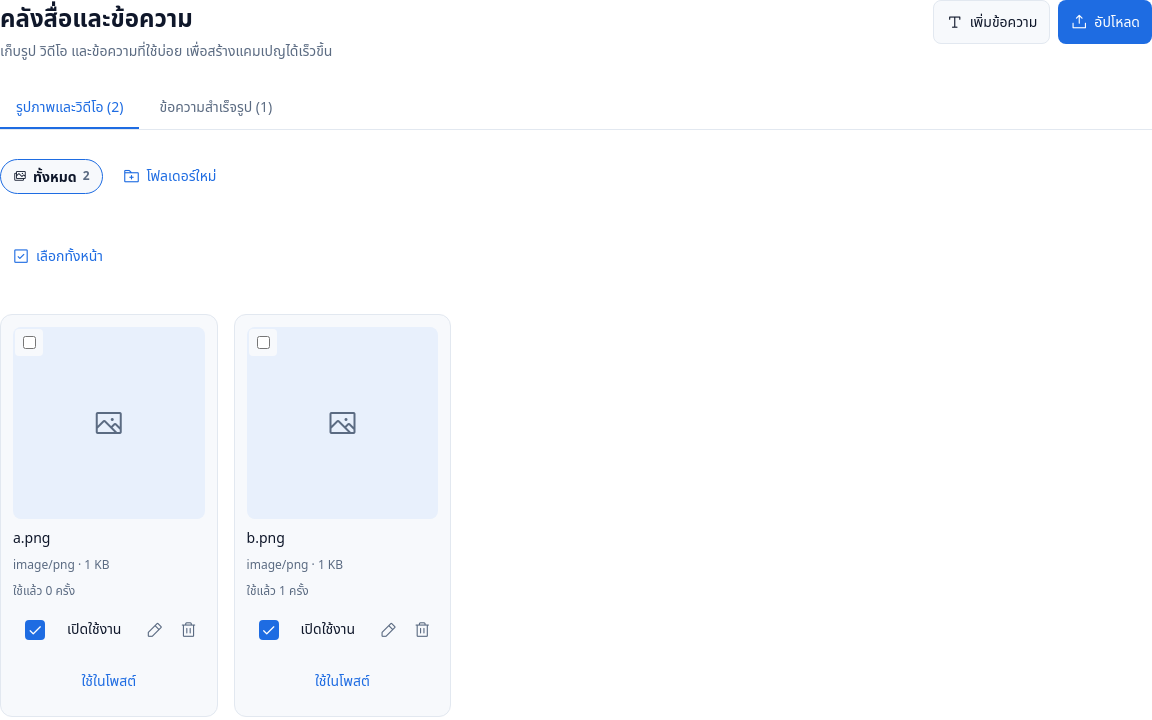
Test case: LibraryPageComponent and the draft of a new post › rename, switch on/off and delete › edits a snippet in the same dialog as a new one
The image size is (1152, 720).
Click the tab "ข้อความสำเร็จรูป (1)". click: {"x": 216, "y": 107}
box: [144,85,288,129]
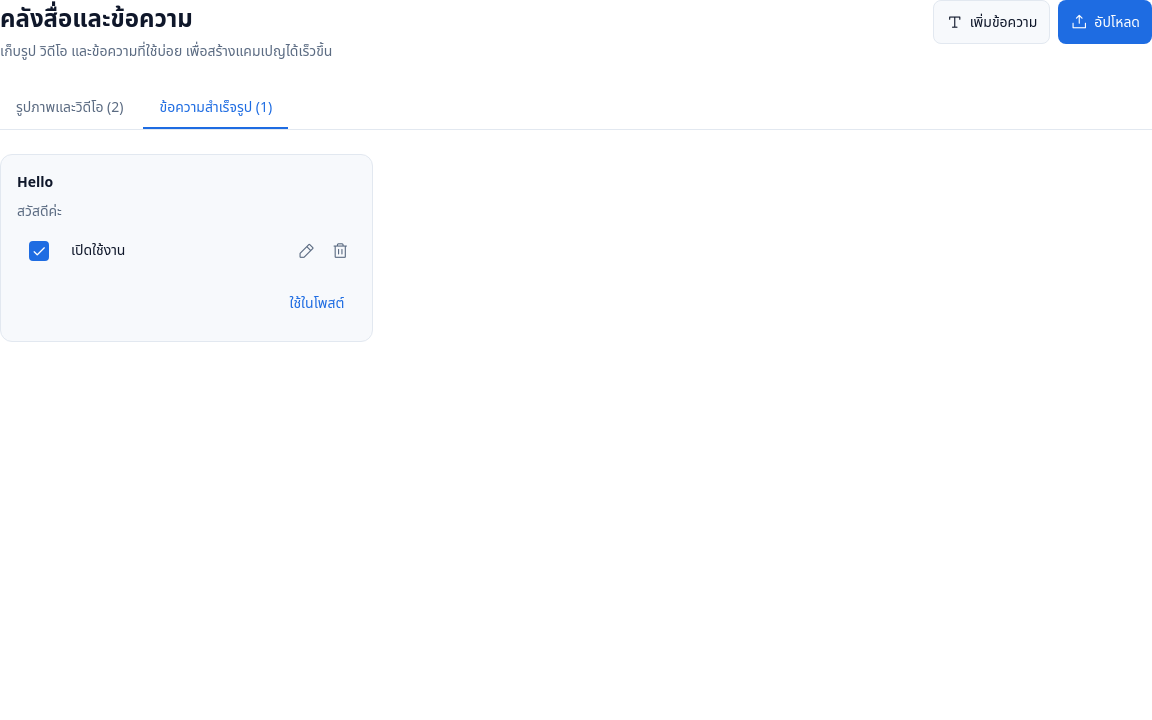
Click the 1st button with class "ibtn". click: {"x": 306, "y": 251}
box: [290,235,322,267]
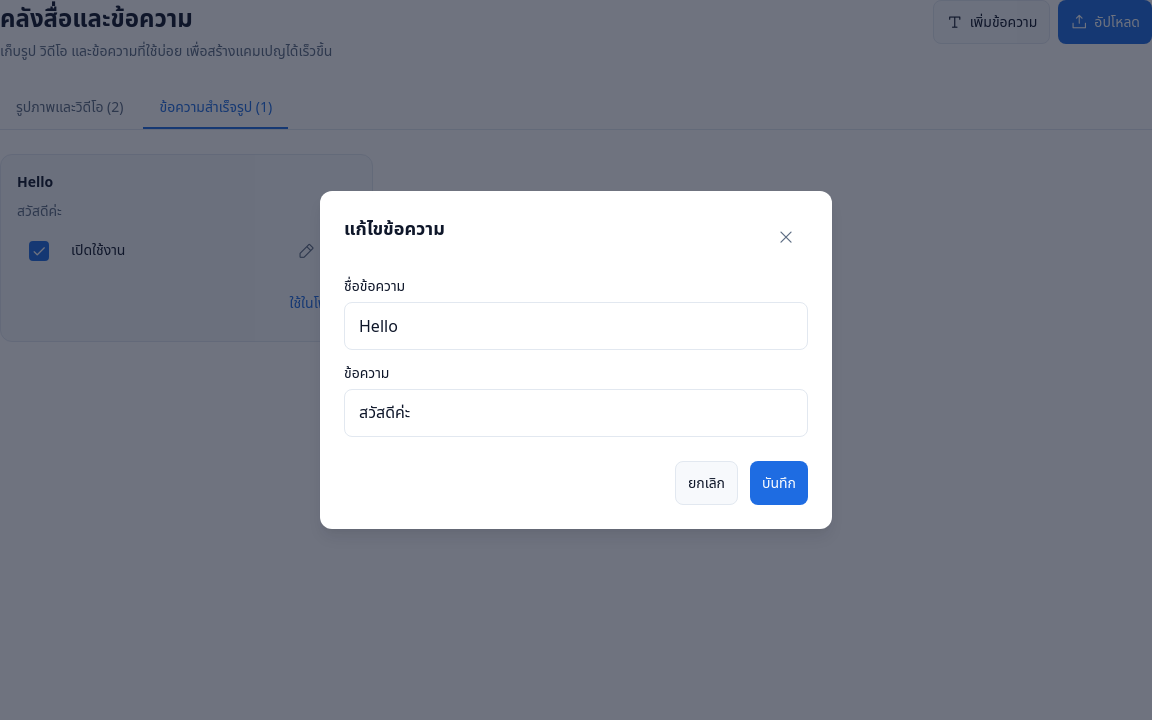
Replace the text in the field labelled "ชื่อข้อความ" with "Hi". click: {"x": 576, "y": 326}
box: [344,302,808,350]
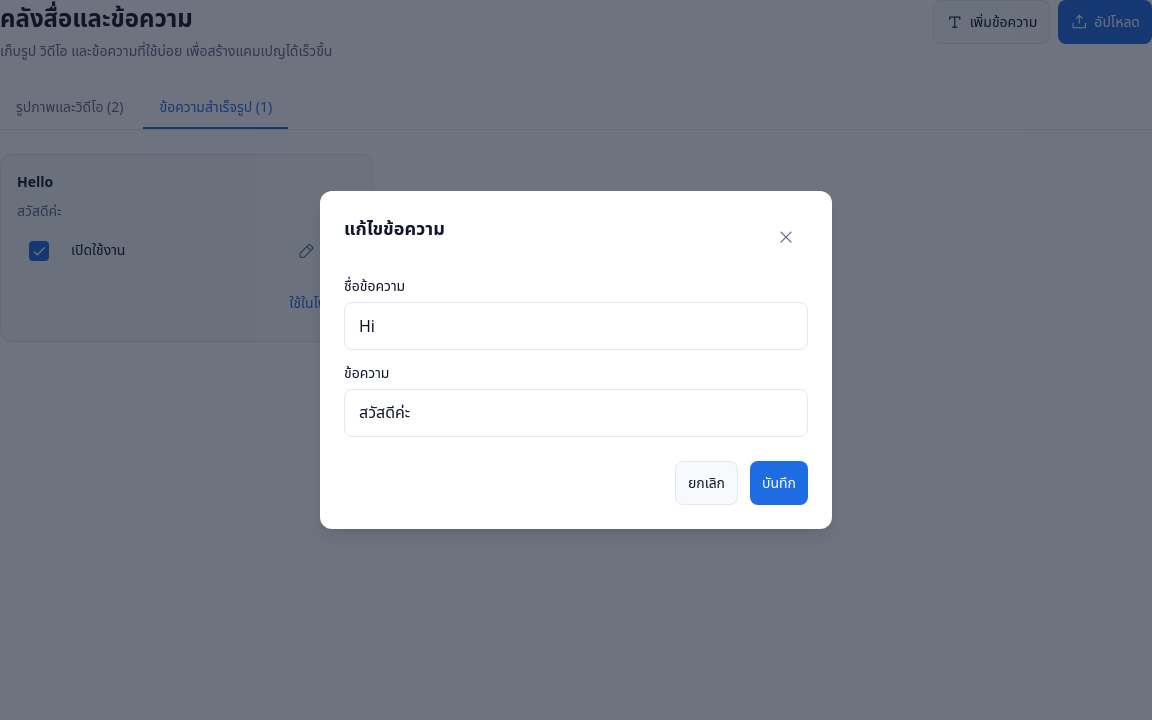
Click the button "บันทึก". click: {"x": 779, "y": 483}
box: [750,461,808,505]
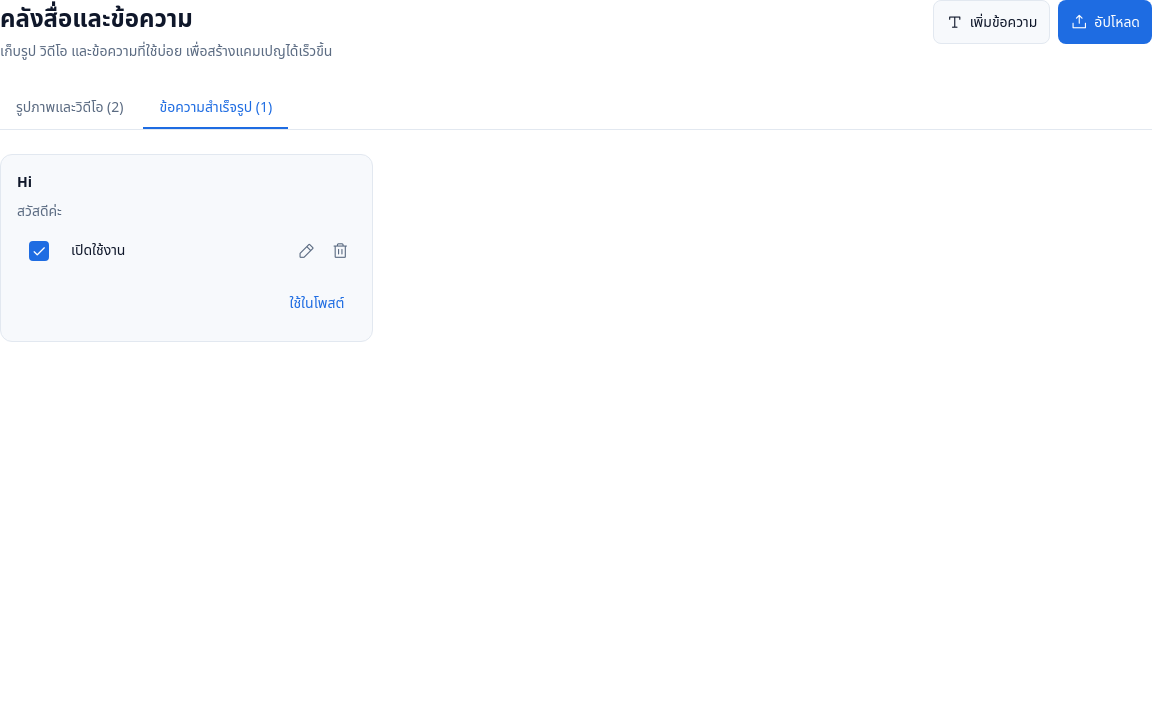
Now the text with class "fw6" reads "Hi", box [17,172,32,191]
